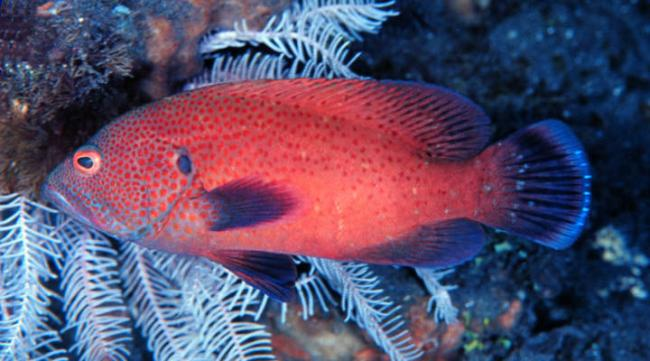fish: (44, 80, 591, 302)
